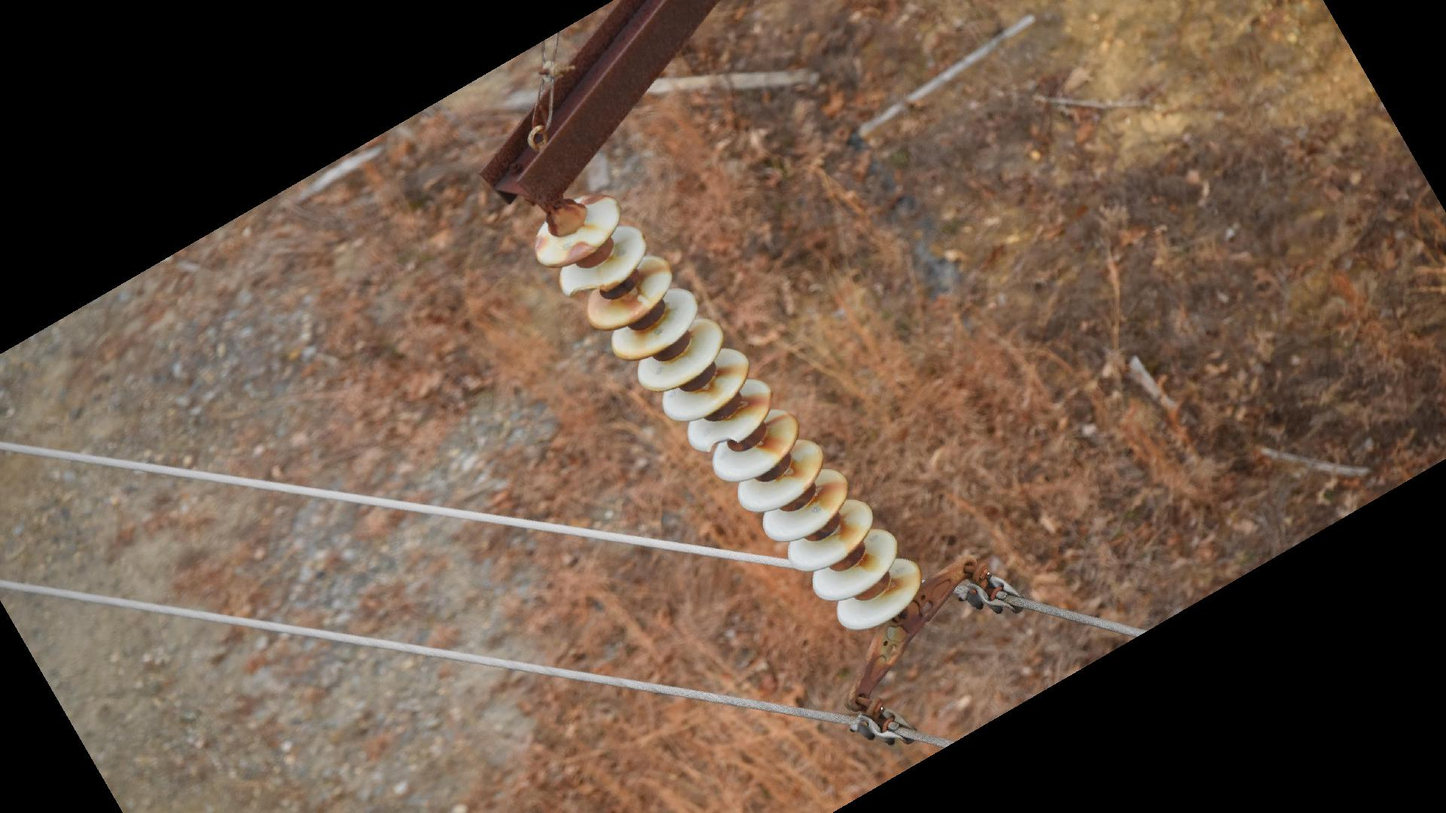insulator: (530, 188, 926, 633)
insulator_breakage: (561, 279, 617, 300), (704, 432, 742, 456)
